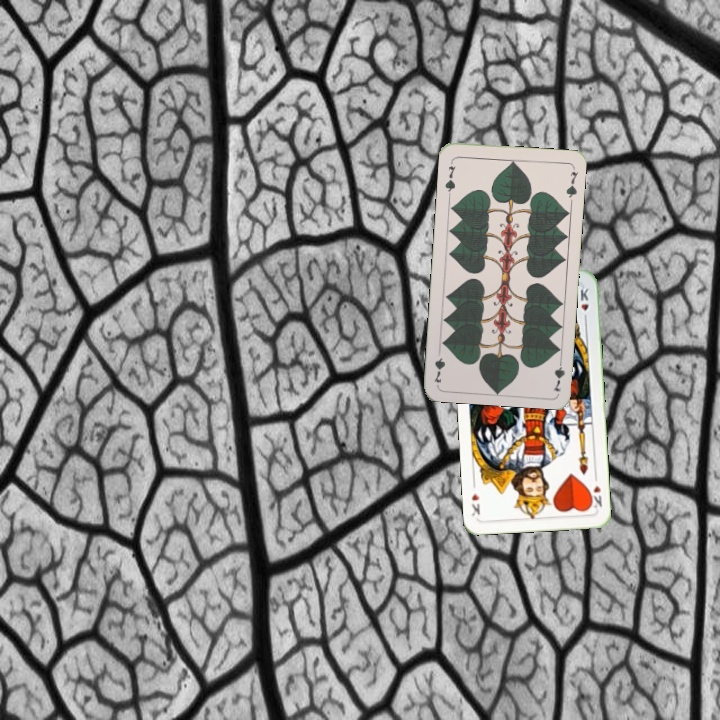G7: (549, 353, 567, 393), (441, 157, 458, 197)
HK: (585, 481, 605, 512)
